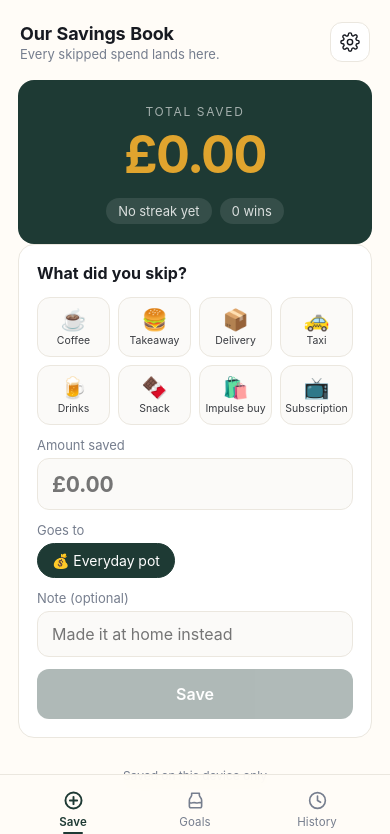
Scenario: ayarlar › isim kaydedilir
Click the button named "Settings" at (350, 42), box [330,22,370,62]
(page scrolled)
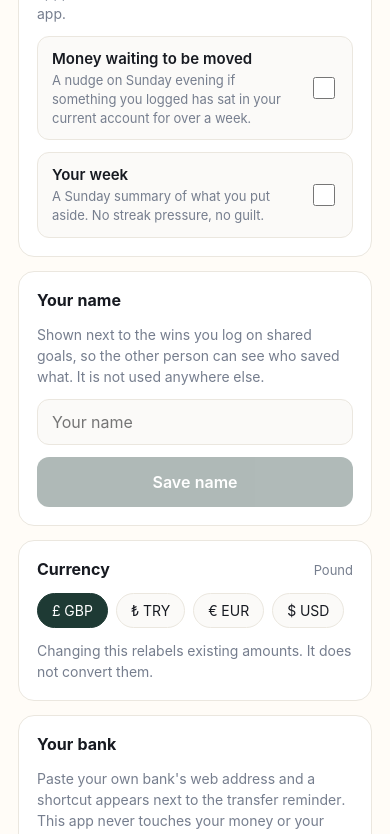
Type "Ada" into the field with placeholder "Your name" at (195, 422), box [37,399,353,445]
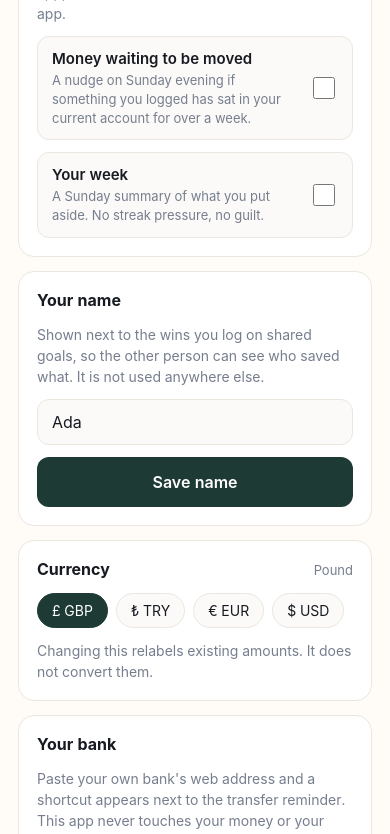
Click the button "Save name" at (195, 482), box [37,457,353,507]
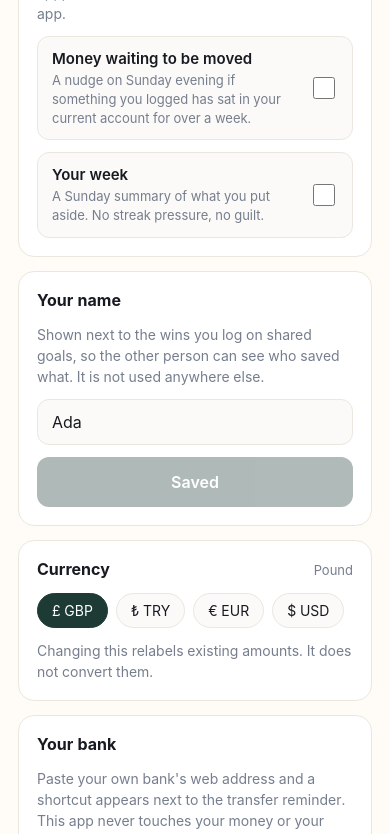
Check: the button "Saved" is shown, box [37,457,353,507]
